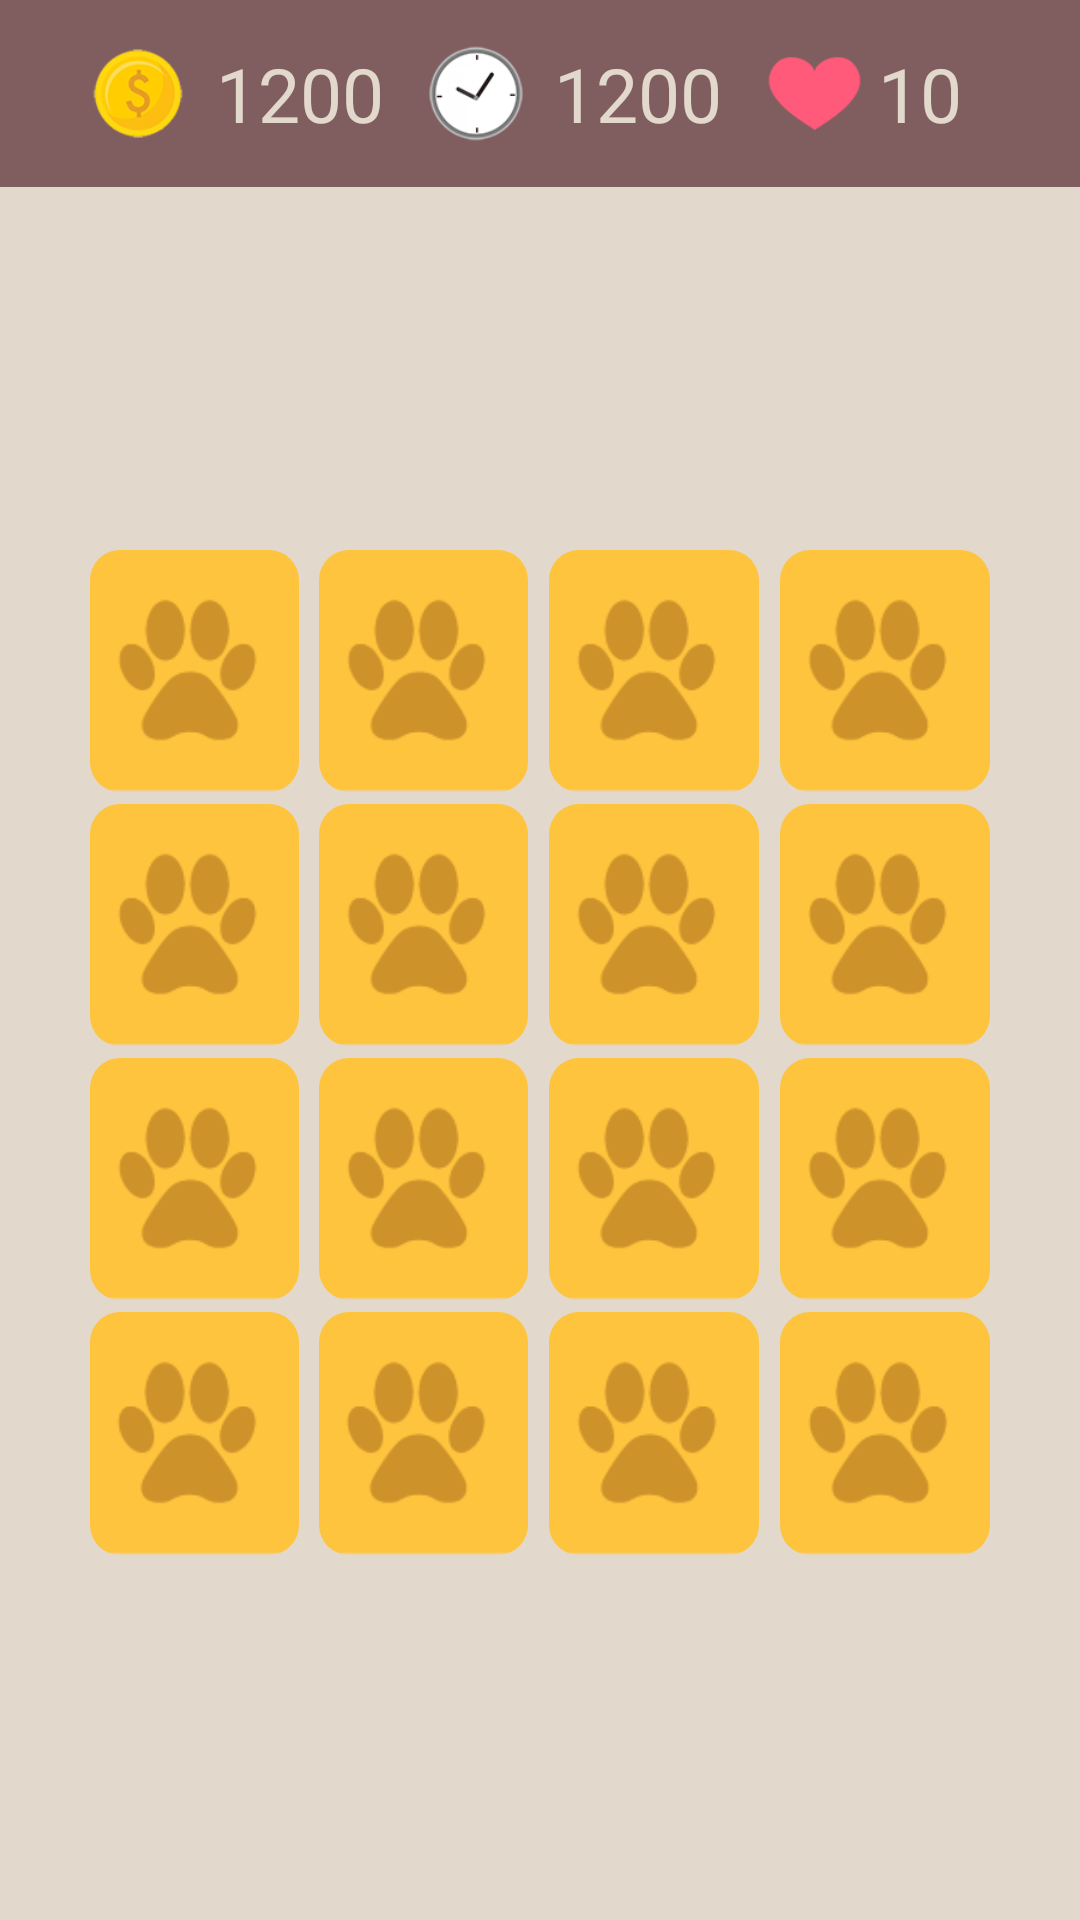

Named icons in this screenshot (1080×1920) and their bounding boxes, (x1, y1, x2, y2):
clock: (429, 47, 523, 140)
coin: (94, 49, 182, 138)
lives: (768, 57, 861, 130)
